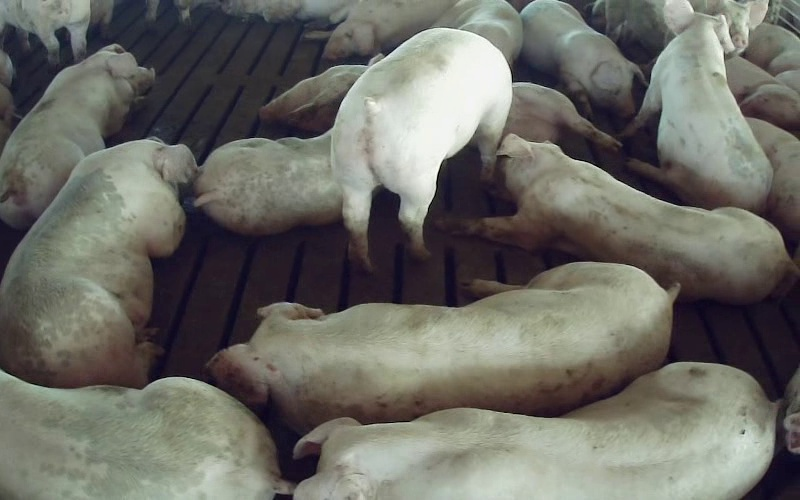pig: (207, 262, 677, 432), (294, 363, 777, 499), (441, 134, 799, 302), (0, 139, 196, 387), (331, 28, 511, 269), (625, 0, 772, 213), (0, 44, 154, 228), (194, 132, 341, 234), (520, 0, 644, 118), (323, 0, 456, 60)
